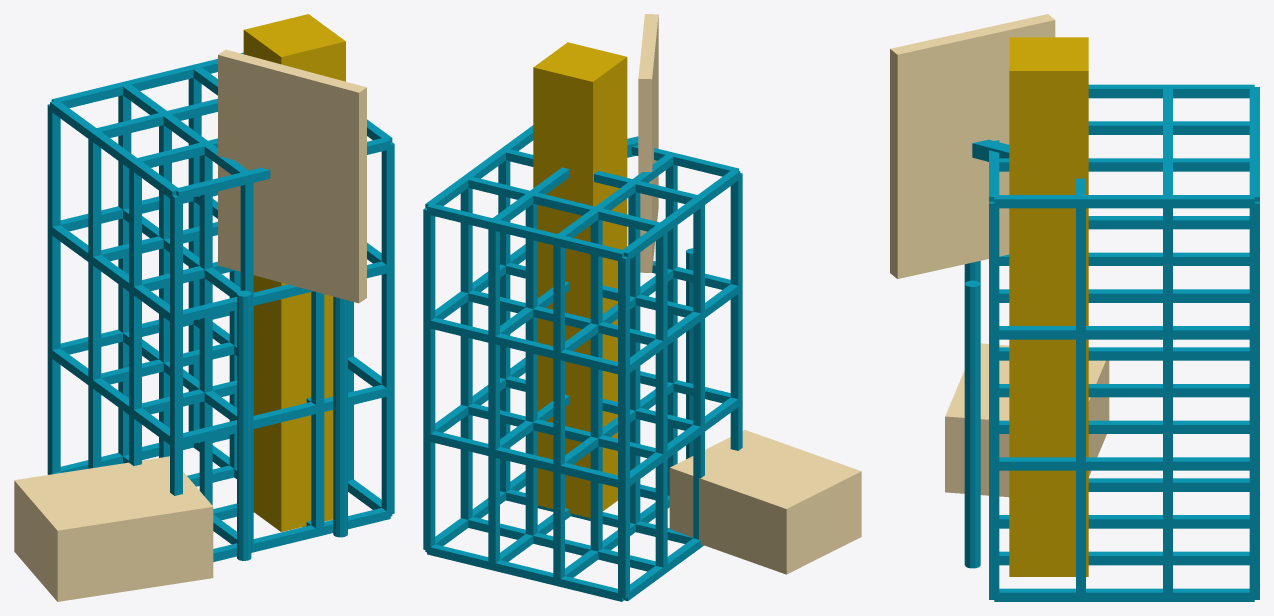
Rendered from folie_tag_054.glb.
3 views of the same model, side by side, from view 1: azimuth 30°, elevation 25°; view 2: azimuth 150°, elevation 25°; view 3: azimuth 270°, elevation 25° (orthographic). The views are drawn at different scales.
Parts seen in each view (by area): view 1: folie_tag_054_00_cage, folie_tag_054_01_panel, folie_tag_054_02_block, folie_tag_054_core, folie_tag_054_line; view 2: folie_tag_054_00_cage, folie_tag_054_core, folie_tag_054_02_block, folie_tag_054_01_panel, folie_tag_054_line; view 3: folie_tag_054_00_cage, folie_tag_054_core, folie_tag_054_01_panel, folie_tag_054_02_block, folie_tag_054_line.
Part boxes in pixels (bbox=[...]): folie_tag_054_00_cage: bbox=[47, 52, 394, 561]; folie_tag_054_01_panel: bbox=[218, 49, 366, 303]; folie_tag_054_02_block: bbox=[14, 456, 213, 601]; folie_tag_054_core: bbox=[243, 14, 345, 531]; folie_tag_054_line: bbox=[237, 290, 347, 560]; folie_tag_054_00_cage: bbox=[423, 125, 742, 601]; folie_tag_054_core: bbox=[533, 42, 627, 518]; folie_tag_054_02_block: bbox=[669, 430, 861, 574]; folie_tag_054_01_panel: bbox=[638, 14, 658, 272]; folie_tag_054_line: bbox=[627, 136, 693, 459]; folie_tag_054_00_cage: bbox=[989, 84, 1259, 601]; folie_tag_054_core: bbox=[1009, 37, 1088, 576]; folie_tag_054_01_panel: bbox=[890, 14, 1055, 278]; folie_tag_054_02_block: bbox=[945, 343, 1109, 497]; folie_tag_054_line: bbox=[964, 139, 1009, 568].
Bounding box in the file's own units: 5.83 × 7.78 × 5.11.
